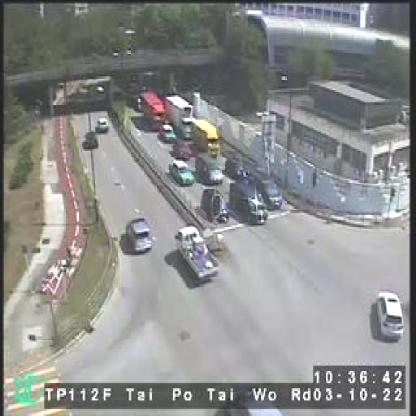Car: (229, 180, 268, 220), (378, 289, 402, 333), (126, 215, 155, 250), (254, 172, 282, 204), (202, 188, 228, 218), (196, 153, 221, 180), (168, 161, 195, 182), (225, 156, 249, 175), (172, 137, 190, 156), (157, 122, 172, 140), (82, 128, 97, 144), (95, 118, 109, 132)
Truck: (174, 224, 220, 277), (191, 120, 219, 156), (167, 96, 191, 134), (140, 94, 162, 126)
